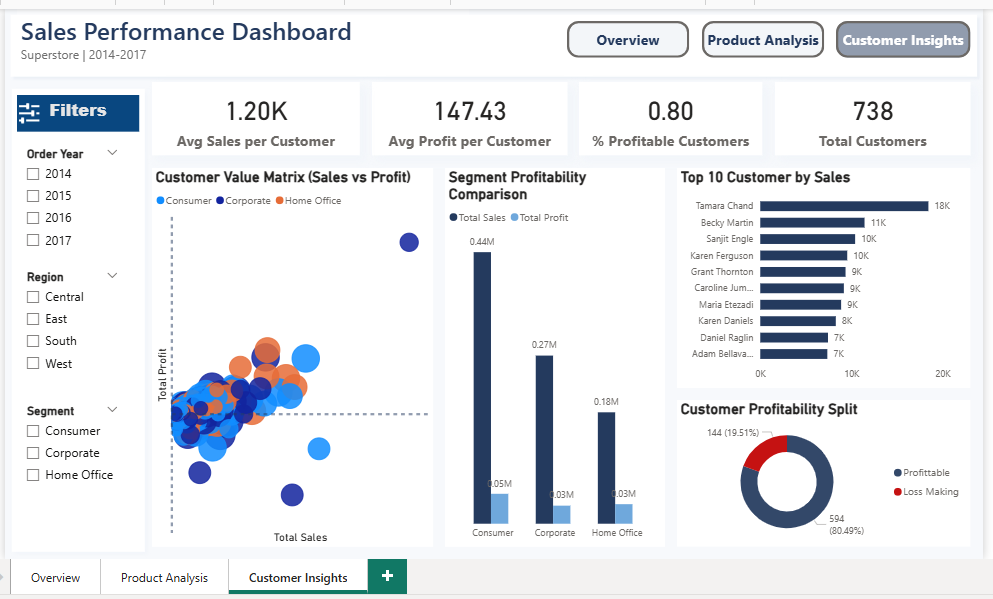

What the dashboard file says about the page in this screenshot:
{"tool":"powerbi","page":{"name":"Customer Insights","canvas":[1280,720],"ordinal":2},"visuals":[{"type":"shape","box":[0,0,1280,96],"z":0},{"type":"textbox","box":[16,0,592,80],"z":1000},{"type":"actionButton","box":[736,16,160,48],"z":2000},{"type":"actionButton","box":[912,16,160,48],"z":3000},{"type":"actionButton","box":[1088,16,176,48],"z":4000},{"type":"shape","box":[0,96,192,624],"z":5000},{"type":"textbox","box":[16,112,160,48],"z":6000},{"type":"image","box":[16,112,32,48],"z":7000},{"type":"card","fields":{"Values":["Sales_Data.Avg Profit per Customer"]},"box":[480,96,256,96],"z":8000},{"type":"card","fields":{"Values":["Sales_Data.% Profitable Customers"]},"box":[752,96,240,96],"z":9000},{"type":"card","fields":{"Values":["Sales_Data.Total Customers"]},"box":[1008,96,256,96],"z":10000},{"type":"card","fields":{"Values":["Sales_Data.Avg Sales per Customer"]},"box":[192,96,272,96],"z":11000},{"type":"slicer","fields":{"Values":["Sales_Data.Order Year"]},"box":[16,176,144,160],"z":12000},{"type":"slicer","fields":{"Values":["Sales_Data.Region"]},"box":[16,336,144,160],"z":13000},{"type":"slicer","fields":{"Values":["Sales_Data.Segment"]},"box":[16,512,144,128],"z":14000},{"type":"scatterChart","title":"Customer Value Matrix (Sales vs Profit)","fields":{"X":["Sales_Data.Total Sales"],"Y":["Sales_Data.Total Profit"],"Category":["Sales_Data.Customer Name"],"Series":["Sales_Data.Segment"],"Size":["Sales_Data.Total Orders"]},"box":[192,208,368,496],"z":15000},{"type":"clusteredBarChart","title":"Top 10 Customer by Sales","fields":{"Category":["Sales_Data.Customer Name"],"Y":["Sales_Data.Total Sales"]},"box":[880,208,384,288],"z":16000},{"type":"clusteredColumnChart","title":"Segment Profitability Comparison","fields":{"Category":["Sales_Data.Segment"],"Y":["Sales_Data.Total Sales","Sales_Data.Total Profit"]},"box":[576,208,288,496],"z":17000},{"type":"donutChart","title":"Customer Profitability Split","fields":{"Y":["Sales_Data.Customer Count"],"Category":["Sales_Data.Customer Profit Status"]},"box":[880,512,384,192],"z":18000}]}

Visuals, with their boxes on the page's 1280x720 design canvas (x1, y1, x2, y2). These are canvas units, not pixel positions in the 993x599 screenshot, which may show the page scaled, cropped or inside an application window:
shape: x1=0, y1=0, x2=1280, y2=96
textbox: x1=16, y1=0, x2=608, y2=80
actionButton: x1=736, y1=16, x2=896, y2=64
actionButton: x1=912, y1=16, x2=1072, y2=64
actionButton: x1=1088, y1=16, x2=1264, y2=64
shape: x1=0, y1=96, x2=192, y2=720
textbox: x1=16, y1=112, x2=176, y2=160
image: x1=16, y1=112, x2=48, y2=160
card - Sales_Data.Avg Profit per Customer: x1=480, y1=96, x2=736, y2=192
card - Sales_Data.% Profitable Customers: x1=752, y1=96, x2=992, y2=192
card - Sales_Data.Total Customers: x1=1008, y1=96, x2=1264, y2=192
card - Sales_Data.Avg Sales per Customer: x1=192, y1=96, x2=464, y2=192
slicer - Sales_Data.Order Year: x1=16, y1=176, x2=160, y2=336
slicer - Sales_Data.Region: x1=16, y1=336, x2=160, y2=496
slicer - Sales_Data.Segment: x1=16, y1=512, x2=160, y2=640
"Customer Value Matrix (Sales vs Profit)" scatterChart: x1=192, y1=208, x2=560, y2=704
"Top 10 Customer by Sales" clusteredBarChart: x1=880, y1=208, x2=1264, y2=496
"Segment Profitability Comparison" clusteredColumnChart: x1=576, y1=208, x2=864, y2=704
"Customer Profitability Split" donutChart: x1=880, y1=512, x2=1264, y2=704
